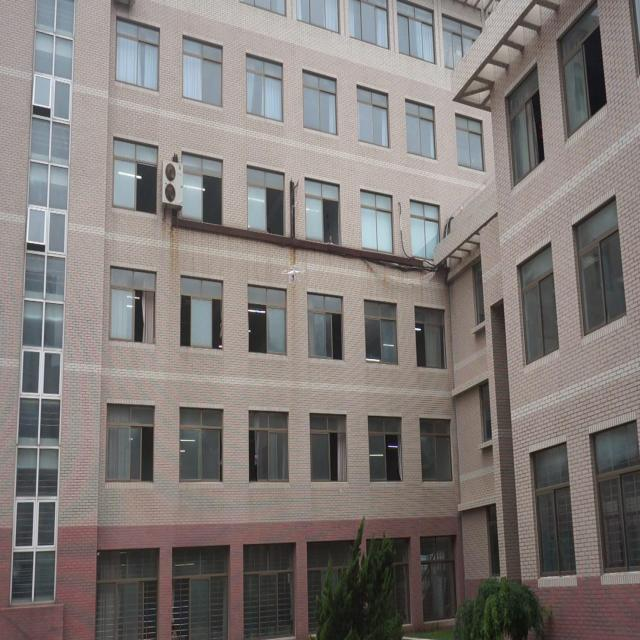drone: (280, 262, 306, 284)
